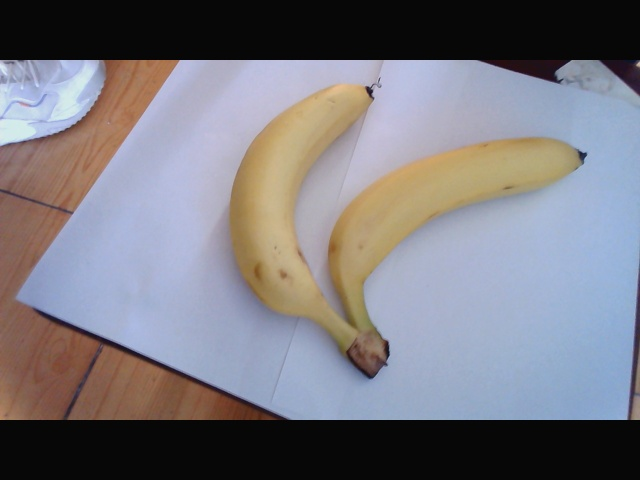banana: (330, 138, 581, 340), (211, 83, 340, 362)
